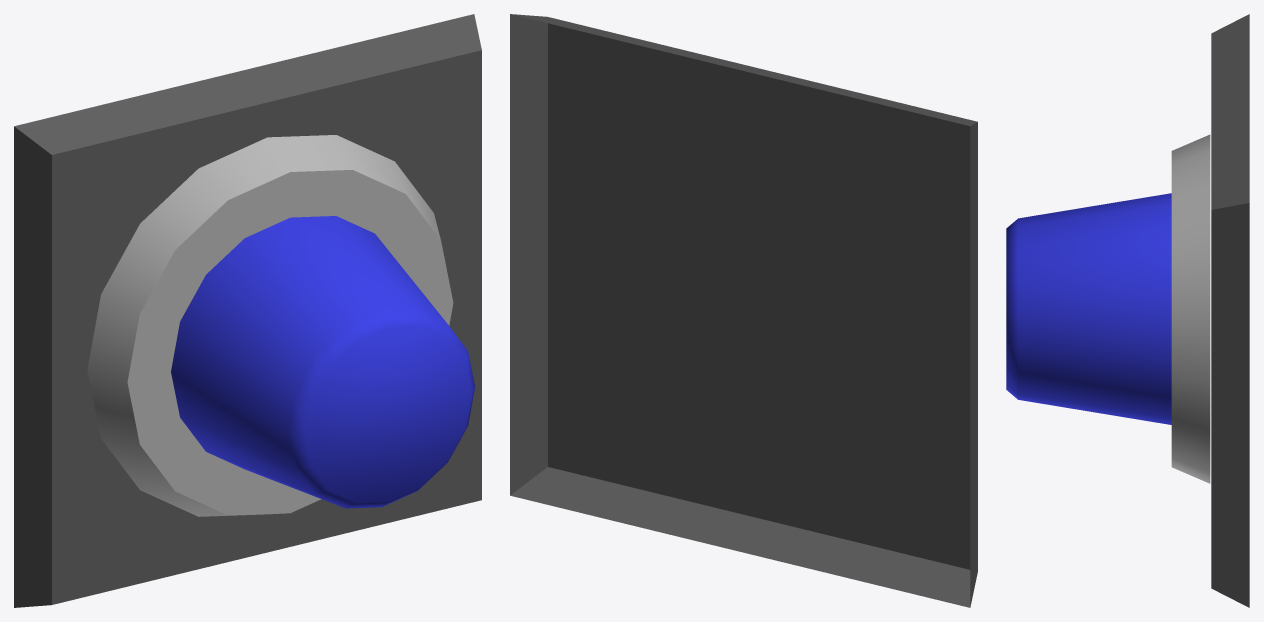
Rendered from panicLightBlue.fbx.
3 renders of one model, left to right at view 1: azimuth 30°, elevation 25°; view 2: azimuth 150°, elevation 25°; view 3: azimuth 270°, elevation 25°, orthographic. The views are drawn at different scales.
Visible parts, largest first — view 1: Panic Light - Blue; view 2: Panic Light - Blue; view 3: Panic Light - Blue.
Boxes of the visible parts, bbox=[...] form: Panic Light - Blue: bbox=[14, 14, 481, 607]; Panic Light - Blue: bbox=[510, 14, 977, 607]; Panic Light - Blue: bbox=[1006, 14, 1249, 607].
Bounding box in the file's own units: 47.56 × 25.86 × 47.56.
